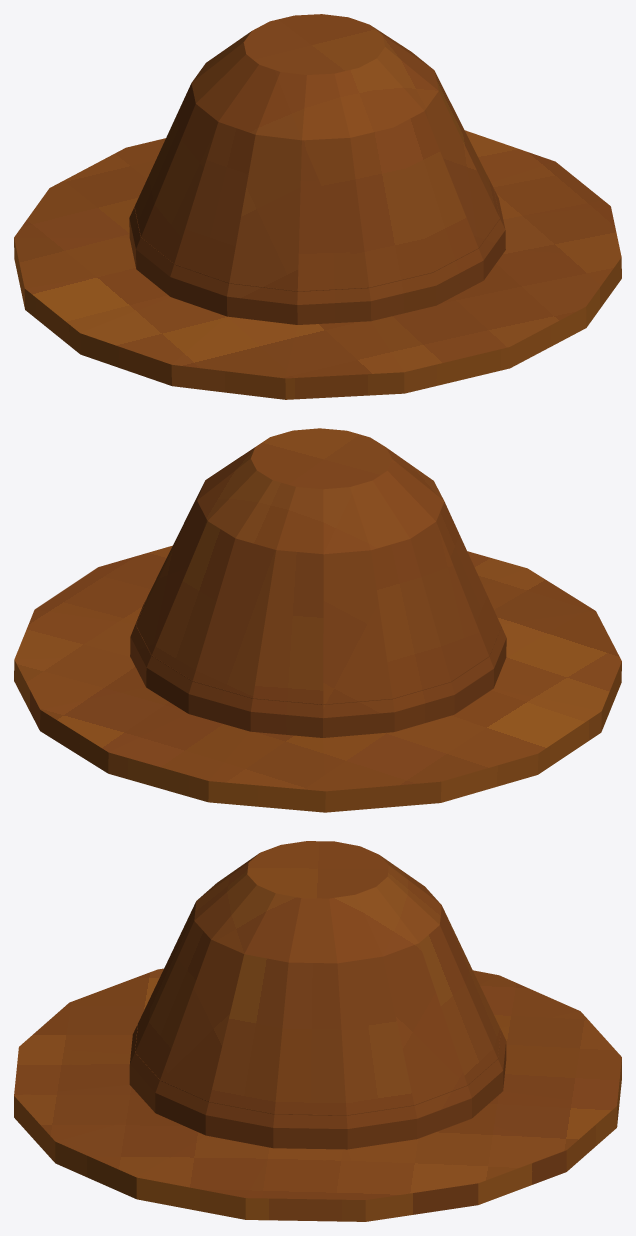
The model's file is ChapeuCamarim.fbx.
The picture shows the model from 3 angles, top to bottom: view 1: azimuth 30°, elevation 25°; view 2: azimuth 150°, elevation 25°; view 3: azimuth 270°, elevation 25°; orthographic projection.
Visible parts, largest first — view 1: Cylinder.003; view 2: Cylinder.003; view 3: Cylinder.003.
Part boxes in pixels (box(x1,y1,x2,y2)): Cylinder.003: box(14, 14, 621, 399); Cylinder.003: box(14, 428, 621, 812); Cylinder.003: box(14, 841, 621, 1221).
Size of the model in its own units: 51.66 by 21.93 by 51.63.
1 material, 1 textured.
